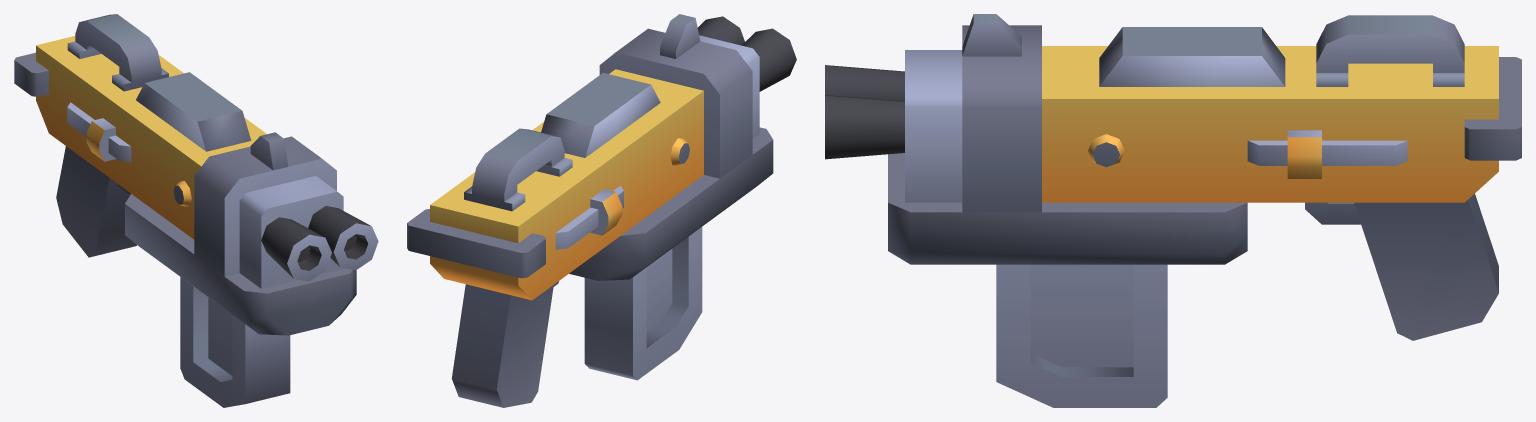
Rendered from gun_smg.glb.
3 views of the same model, side by side, from view 1: azimuth 30°, elevation 25°; view 2: azimuth 150°, elevation 25°; view 3: azimuth 270°, elevation 25° (orthographic). The views are drawn at different scales.
Parts seen in each view (by area): view 1: blaster-j; view 2: blaster-j; view 3: blaster-j.
Boxes of the visible parts, box(x1,y1,x2,y2) form: blaster-j: box(14, 14, 378, 407); blaster-j: box(407, 14, 796, 407); blaster-j: box(825, 14, 1521, 407).
Bounding box in the file's own units: 0.1169 × 0.2729 × 0.46.
Materials: 1 (1 with a texture image).
